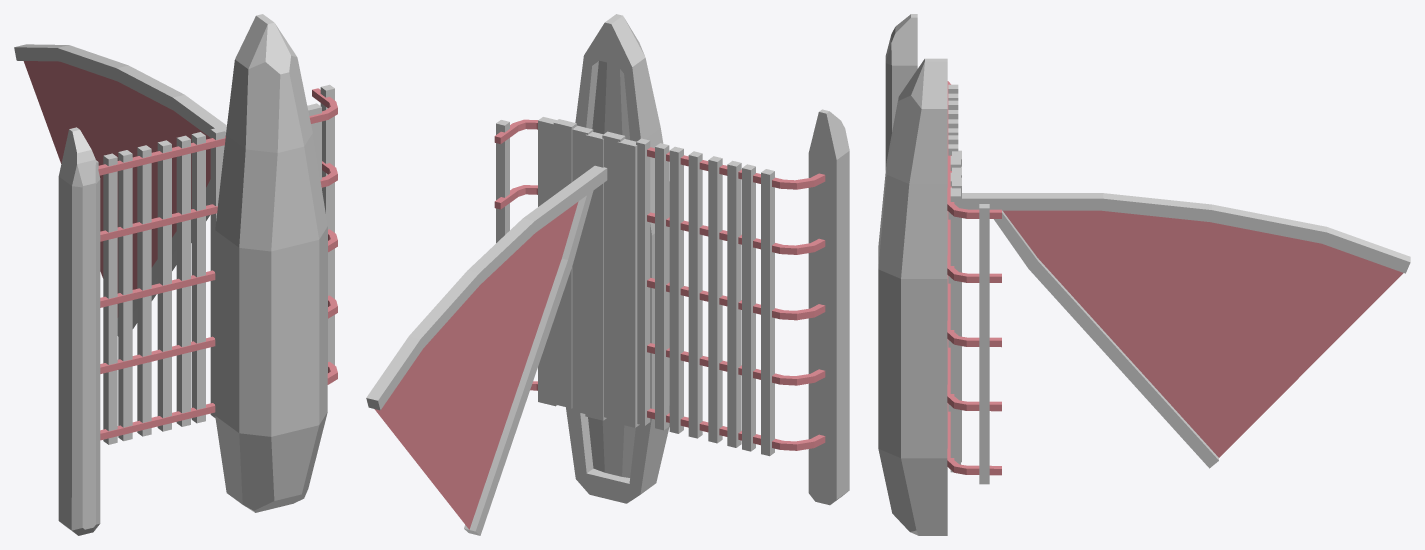
File: Ocean Canoe.fbx
3 renders of one model, left to right at view 1: azimuth 30°, elevation 25°; view 2: azimuth 150°, elevation 25°; view 3: azimuth 270°, elevation 25°, orthographic. The views are drawn at different scales.
Visible parts, largest first — view 1: Boat, Sail; view 2: Boat, Sail; view 3: Sail, Boat.
Boxes of the visible parts, x1,y1,x2,y2 form: Boat: [58, 14, 337, 535]; Sail: [14, 44, 226, 336]; Boat: [494, 14, 849, 505]; Sail: [366, 165, 607, 535]; Sail: [962, 193, 1410, 468]; Boat: [878, 14, 1001, 535].
Size of the model in its own units: 487 by 729 by 753.
